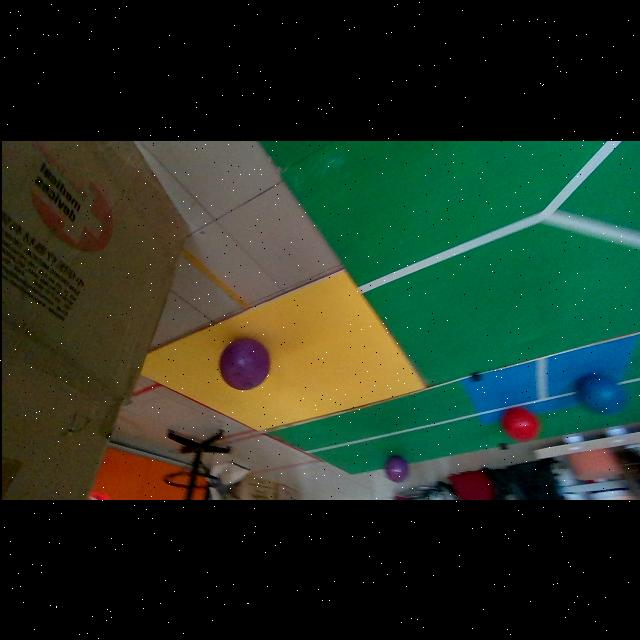B: (575, 375, 627, 415)
P: (218, 338, 268, 390), (384, 456, 407, 483)
R: (500, 407, 539, 442)
